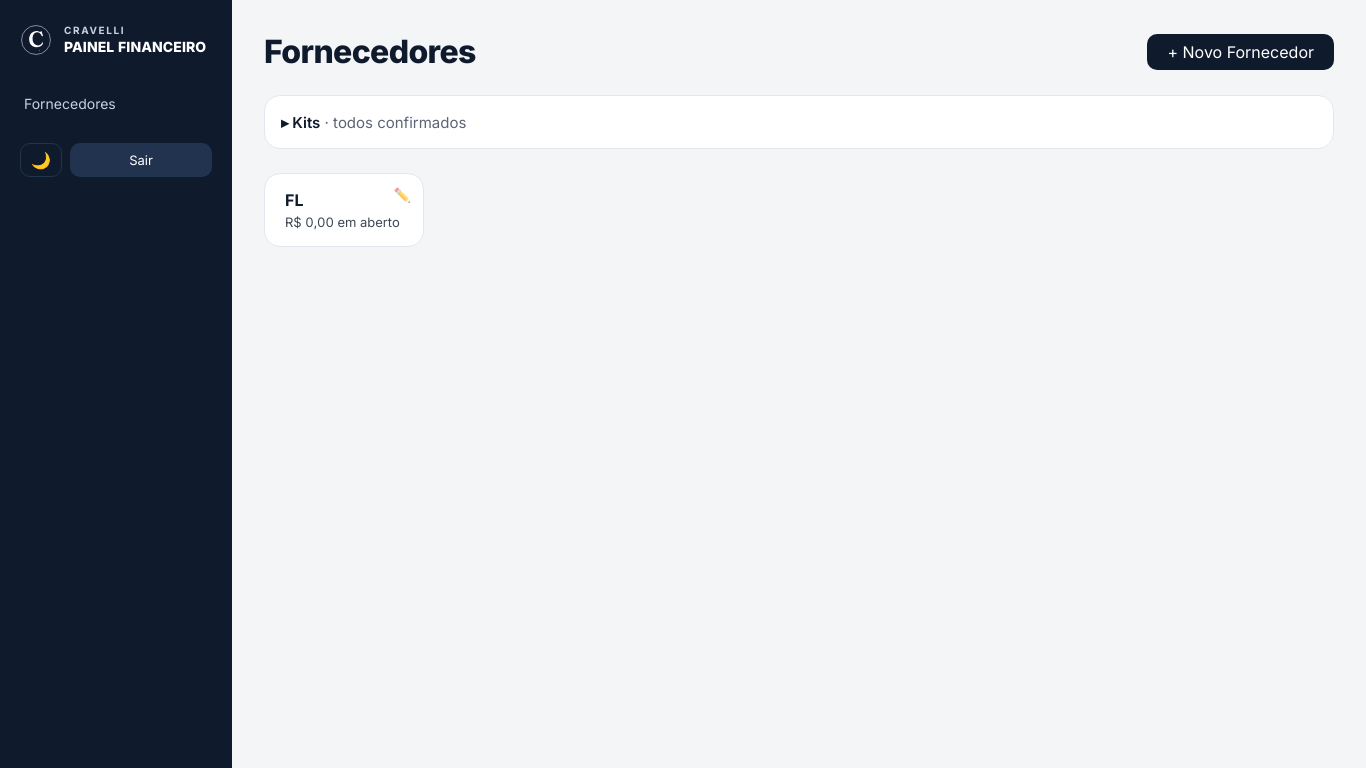
Test case: Fornecedores para quem é só de compras › pode criar pedido e fornecedor
Click the text "FL": (294, 200) [285,190,303,210]
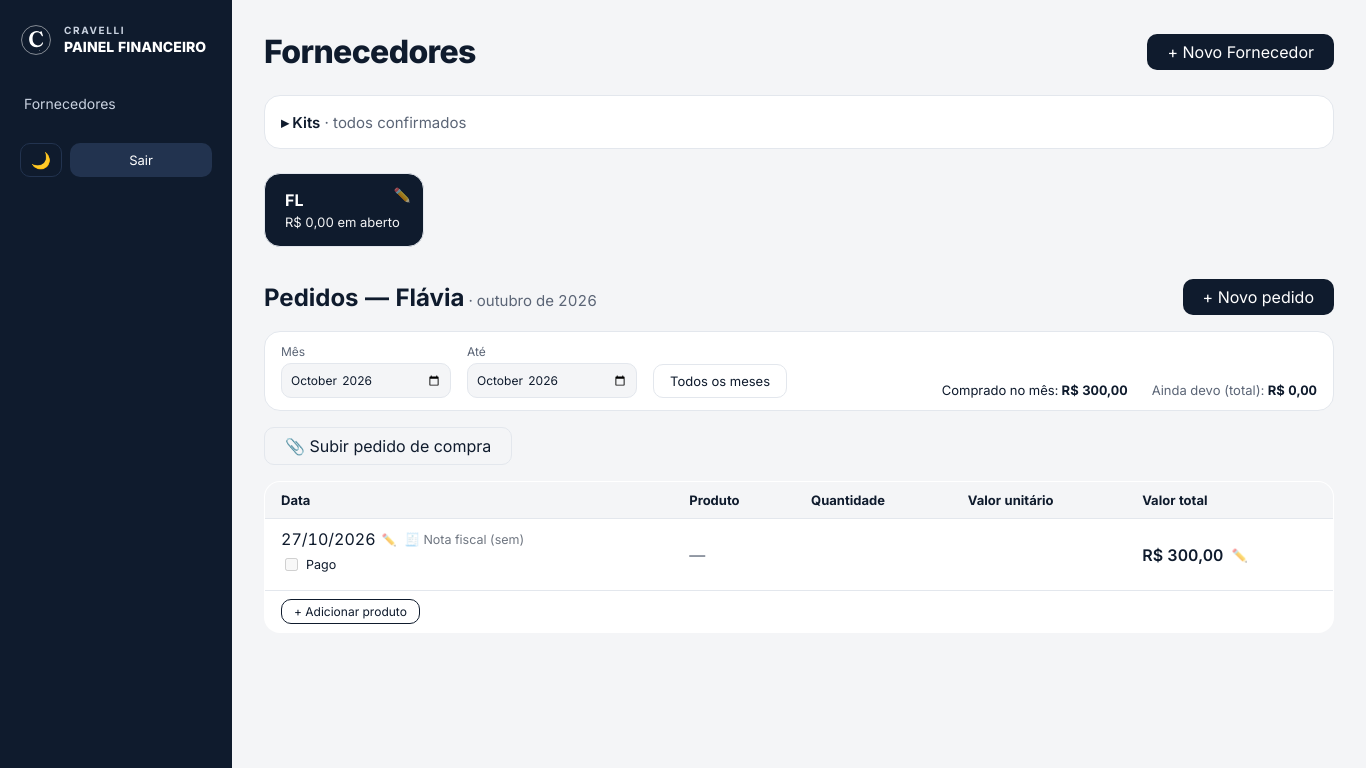
Check: the button "+ Novo Fornecedor" is shown, box [1148,34,1334,70]
Check: the button "+ Novo pedido" is shown, box [1183,279,1334,315]
